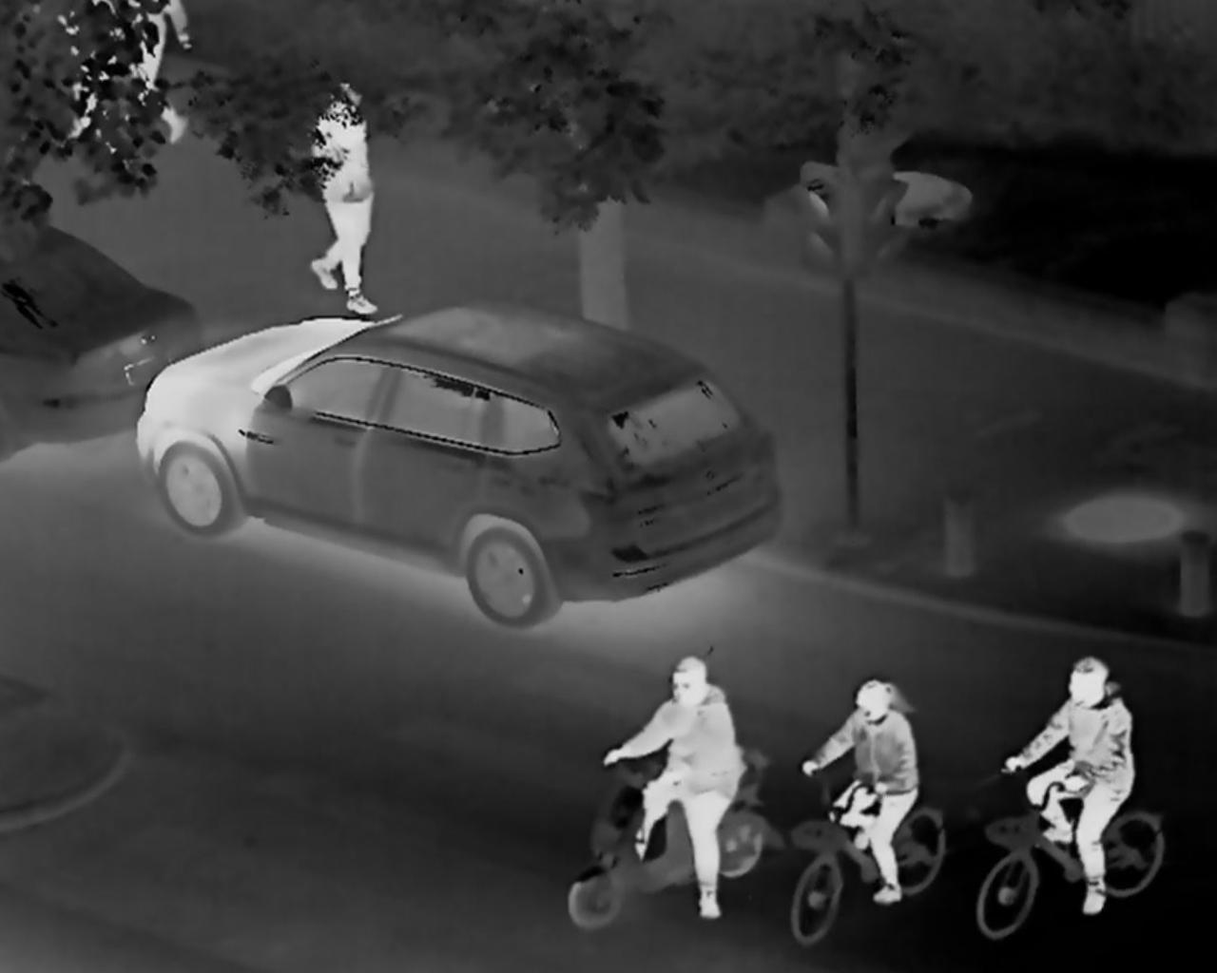person: (600, 647, 744, 925), (1001, 648, 1135, 922), (797, 675, 922, 907), (309, 75, 391, 319)
